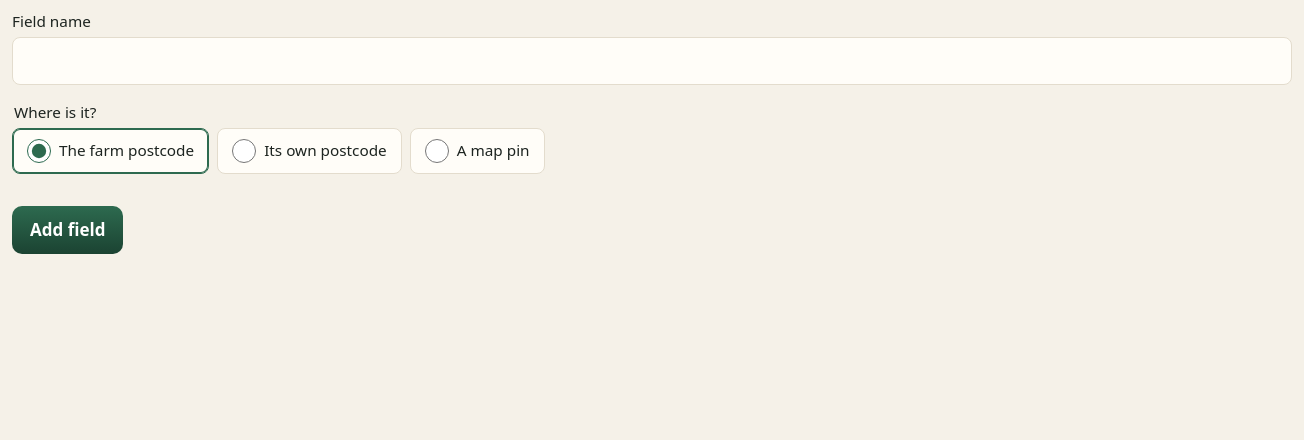
Test: FieldForm (FR-2.2) › needs both coordinates for a pin
This screenshot has width=1304, height=440.
Type "Fell" into the field labelled "Field name" at (652, 61), box [12,37,1292,85]
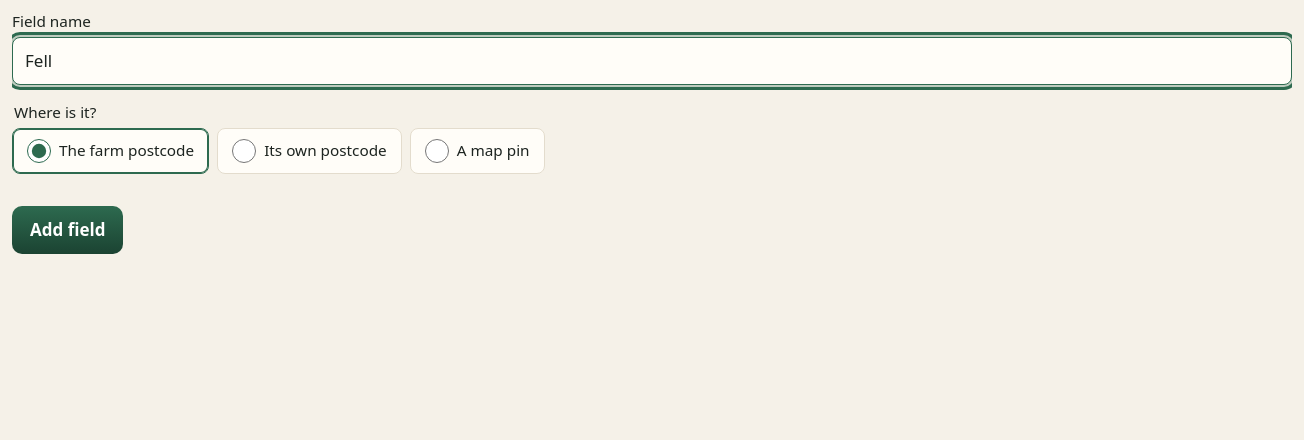
Click the radio button labelled "A map pin" at (437, 151), box [425,139,449,163]
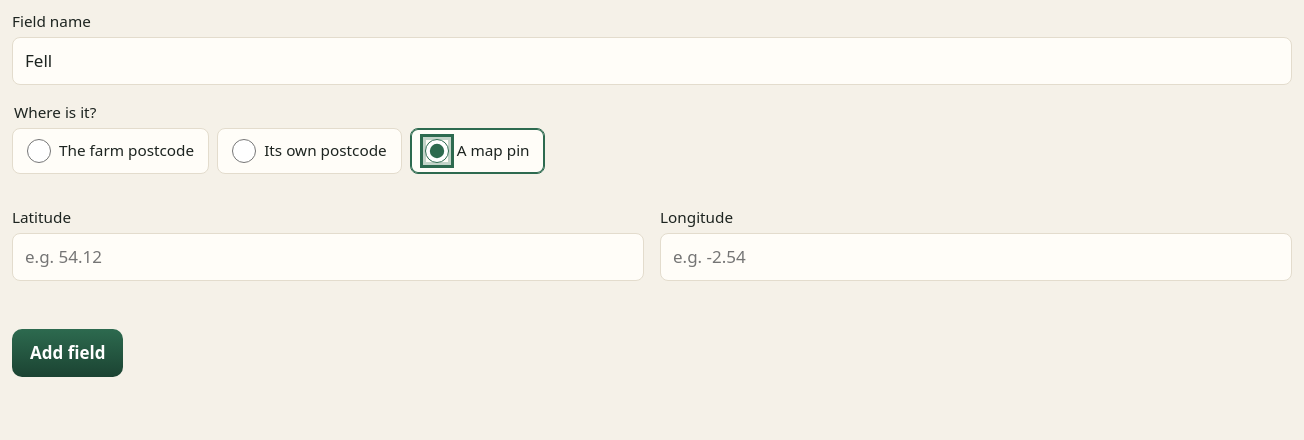
Type "54.1" into the number field labelled "Latitude" at (328, 257), box [12,233,644,281]
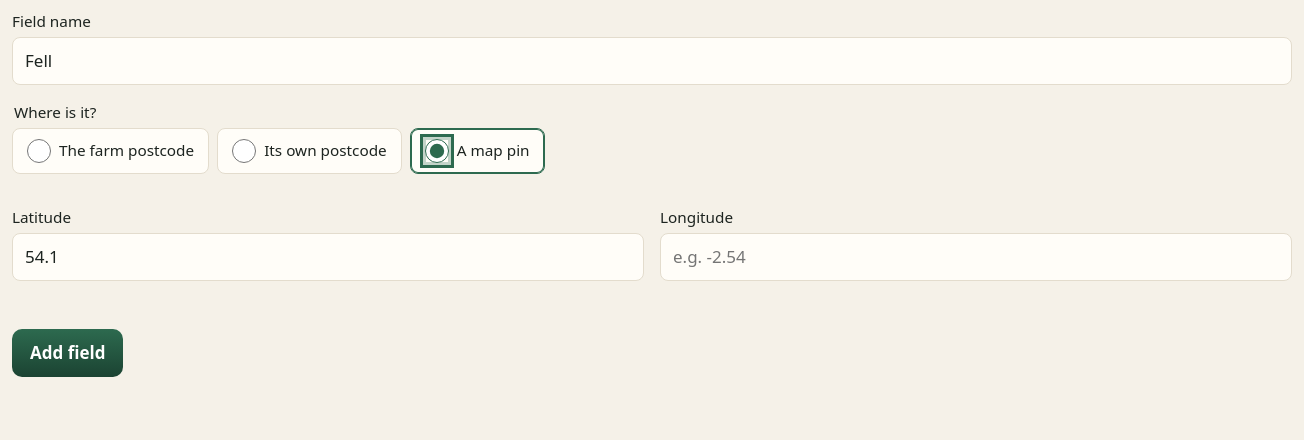
Click the button "Add field" at (68, 353), box [12,329,123,377]
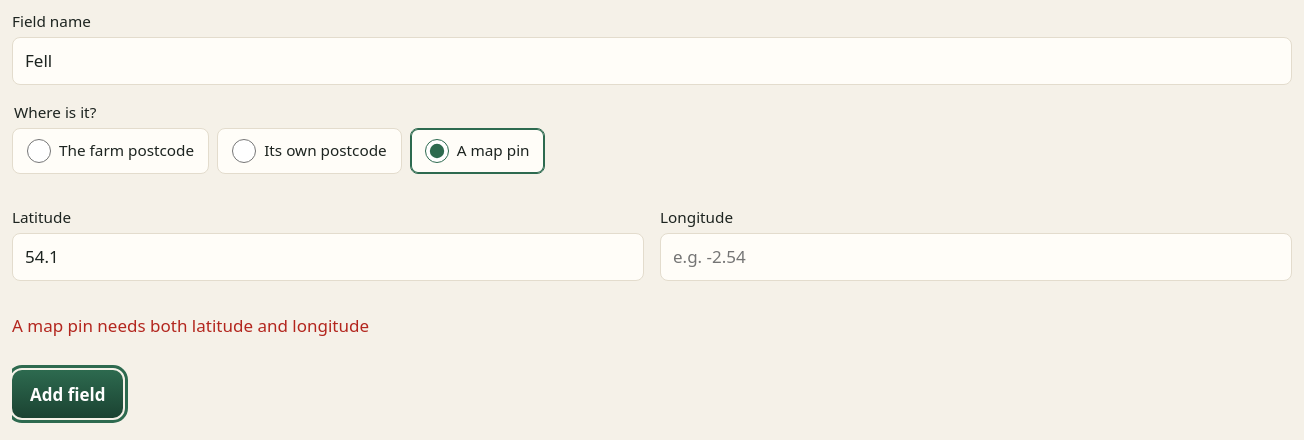
Now the message shows "both latitude and longitude", box [12,314,369,337]
